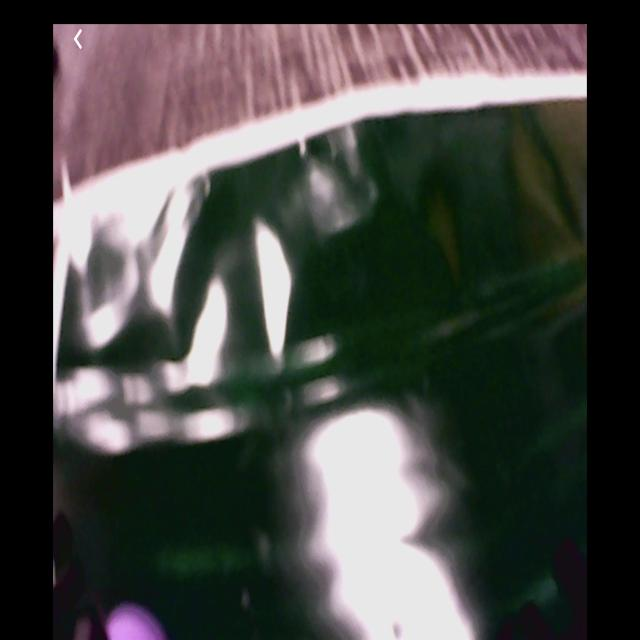ball: (106, 607, 172, 640)
